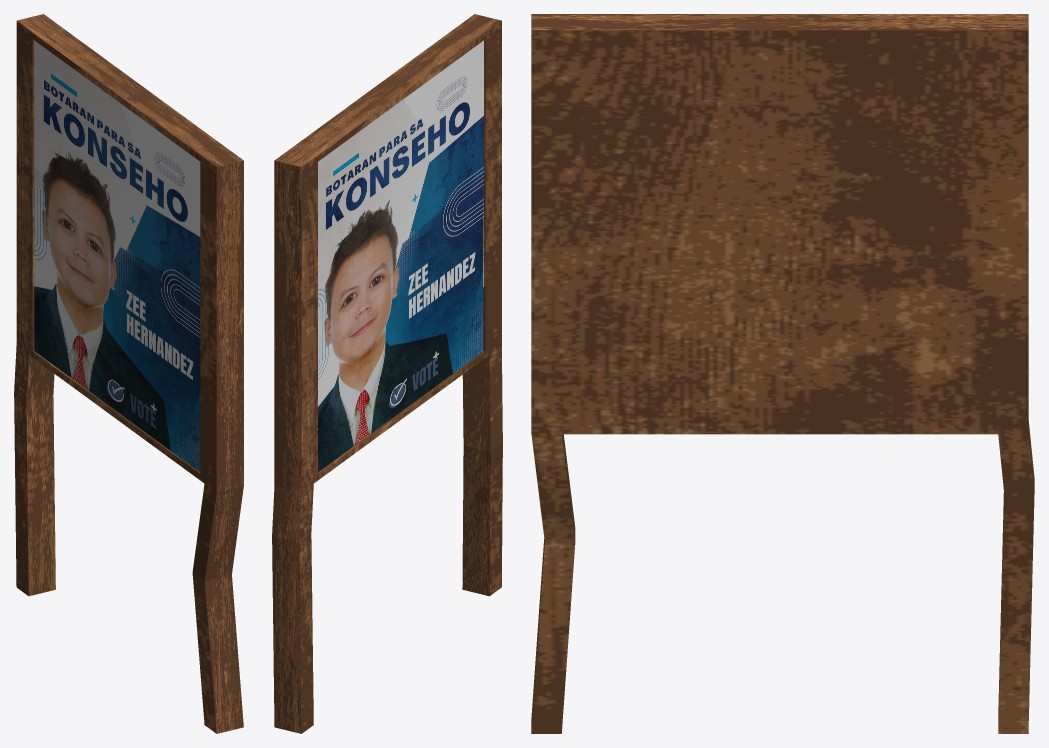
File: Kuya Zen Political Poster.glb
The picture shows the model from 3 angles, left to right: view 1: azimuth 30°, elevation 25°; view 2: azimuth 150°, elevation 25°; view 3: azimuth 270°, elevation 25°; orthographic projection. The views are drawn at different scales.
Parts seen in each view (by area): view 1: Kuya Zen; view 2: Kuya Zen; view 3: Kuya Zen.
Boxes of the visible parts, x1,y1,x2,y2 form: Kuya Zen: (14, 14, 243, 733); Kuya Zen: (272, 14, 502, 733); Kuya Zen: (531, 14, 1034, 733).
Bounding box in the file's own units: 0.1864 × 3 × 1.94.
Materials: 2 (2 with a texture image).
